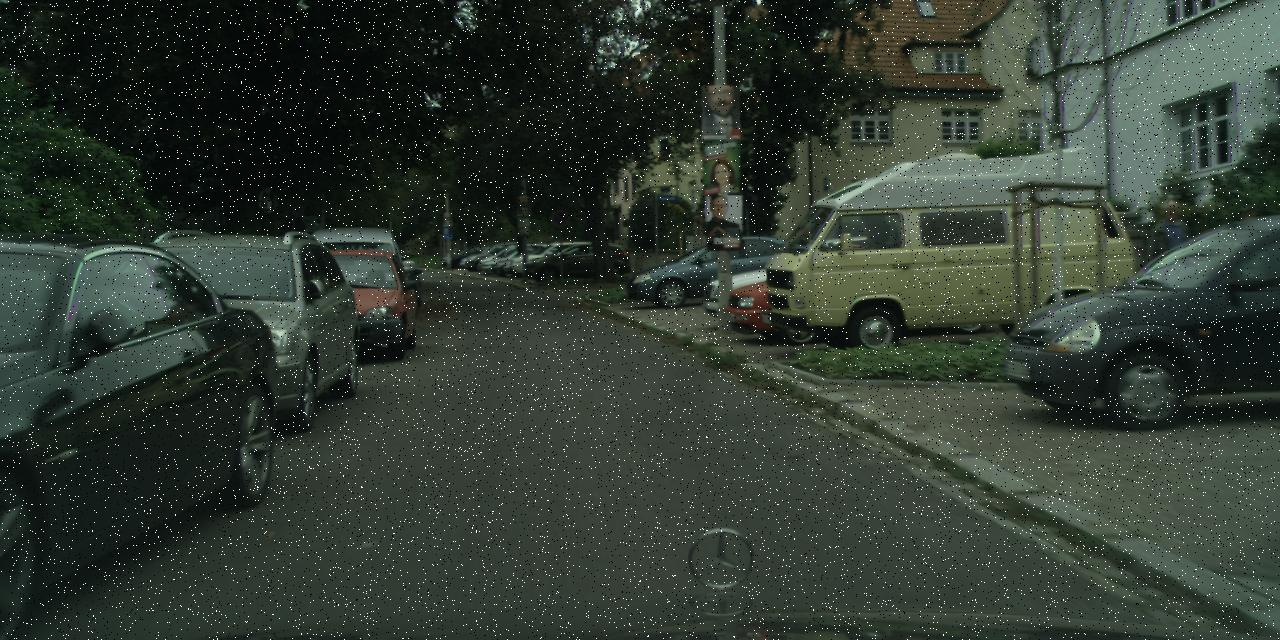ped: (1145, 200, 1199, 332)
